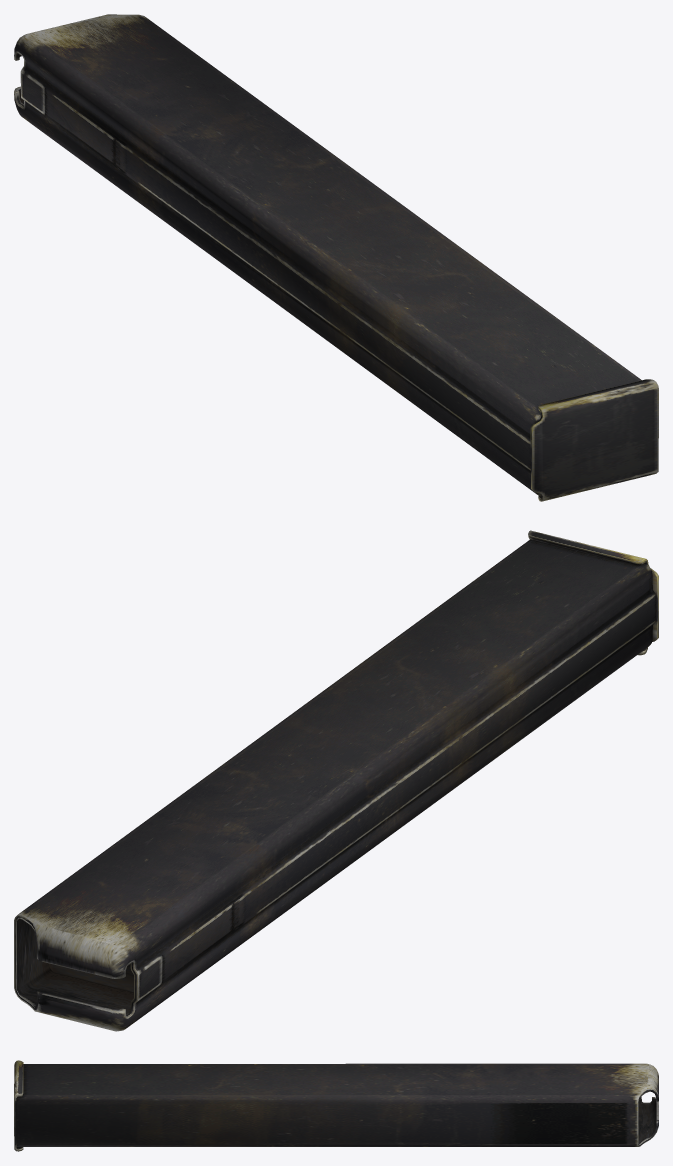
The model's file is MagBox9mm.fbx.
3 views of the same model, one above another, from view 1: azimuth 30°, elevation 25°; view 2: azimuth 150°, elevation 25°; view 3: azimuth 270°, elevation 25° (orthographic). The views are drawn at different scales.
Visible parts, largest first — view 1: MagBox9mm; view 2: MagBox9mm; view 3: MagBox9mm.
Boxes of the visible parts, <box> form: MagBox9mm: <box>14,14,658,501</box>; MagBox9mm: <box>14,530,658,1031</box>; MagBox9mm: <box>14,1060,658,1151</box>.
Bounding box in the file's own units: 0.0206 × 0.0146 × 0.1493.
